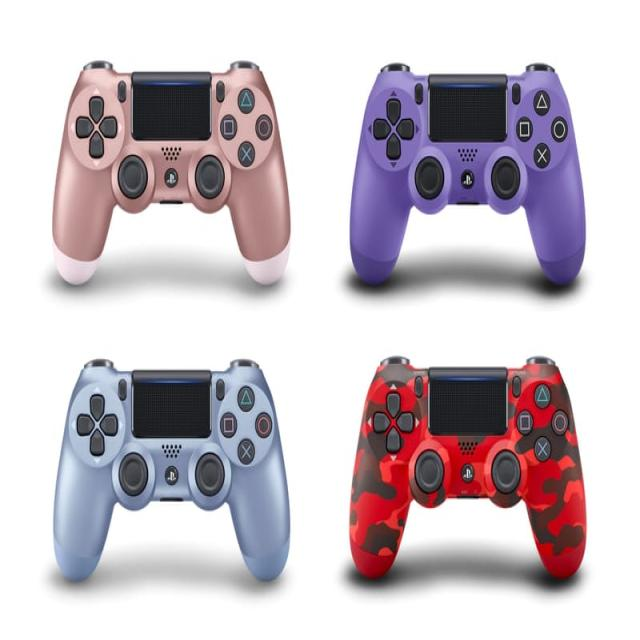ps4_controller: (49, 59, 295, 283), (344, 64, 591, 285), (52, 342, 286, 572)
